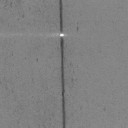surface scratch: (60, 38, 66, 128), (59, 0, 63, 32)
